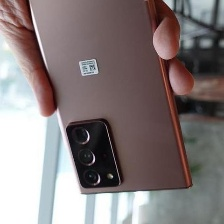phone: (20, 0, 198, 199)
